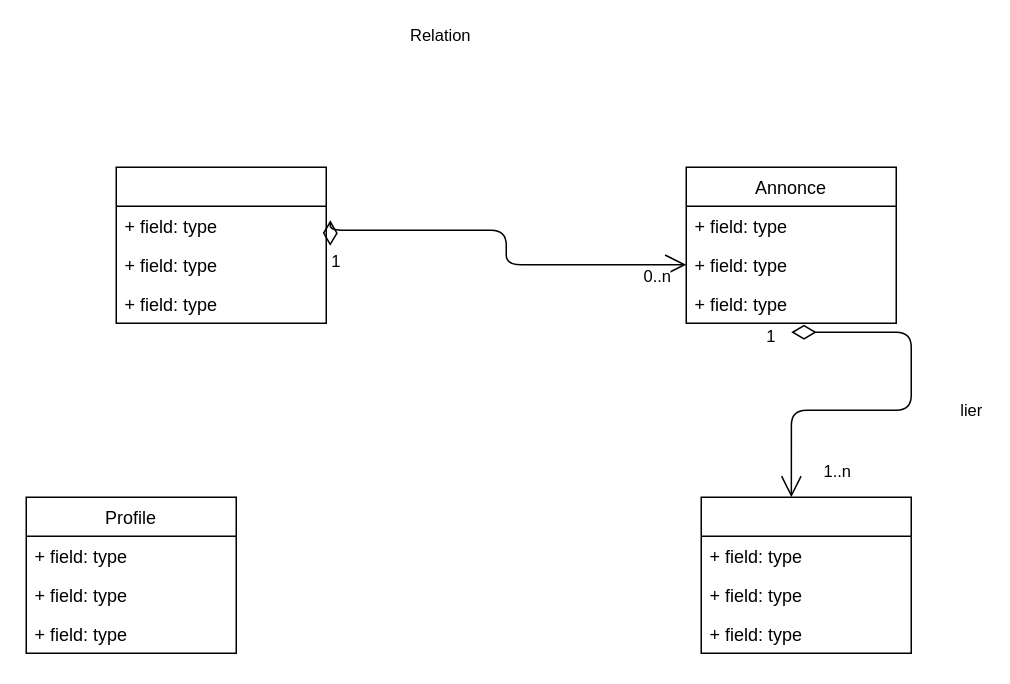
The diagram is 1010 pixels wide and 684 high, and some of its shapes have lost their labels. The box of each missing label's shape, as (x1, y1, x2, y2) in pixels:
Fichier: (700, 496, 911, 653)
User: (115, 166, 326, 323)
